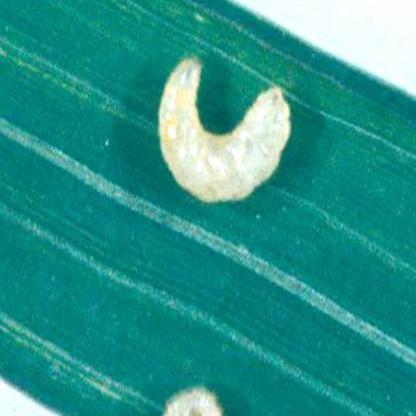whorl-maggot: (156, 48, 295, 212)
